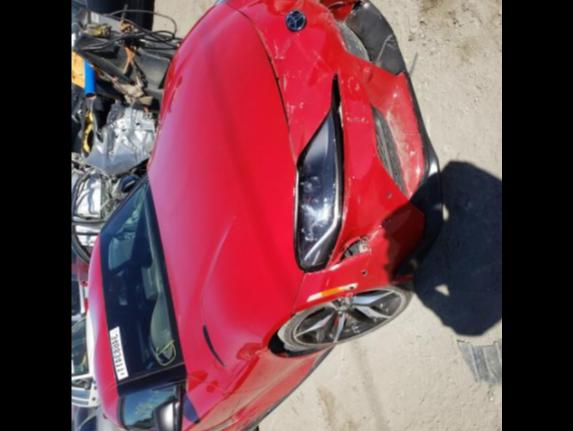Broken part: (312, 0, 410, 83), (337, 228, 374, 267)
Dent: (230, 0, 296, 15)
Paint chip: (354, 262, 374, 282), (381, 185, 397, 202), (272, 74, 282, 86), (266, 54, 275, 63)
Scratch: (344, 175, 360, 226), (285, 82, 300, 132), (342, 67, 363, 98), (346, 103, 370, 129), (279, 63, 290, 95), (275, 34, 289, 57)
